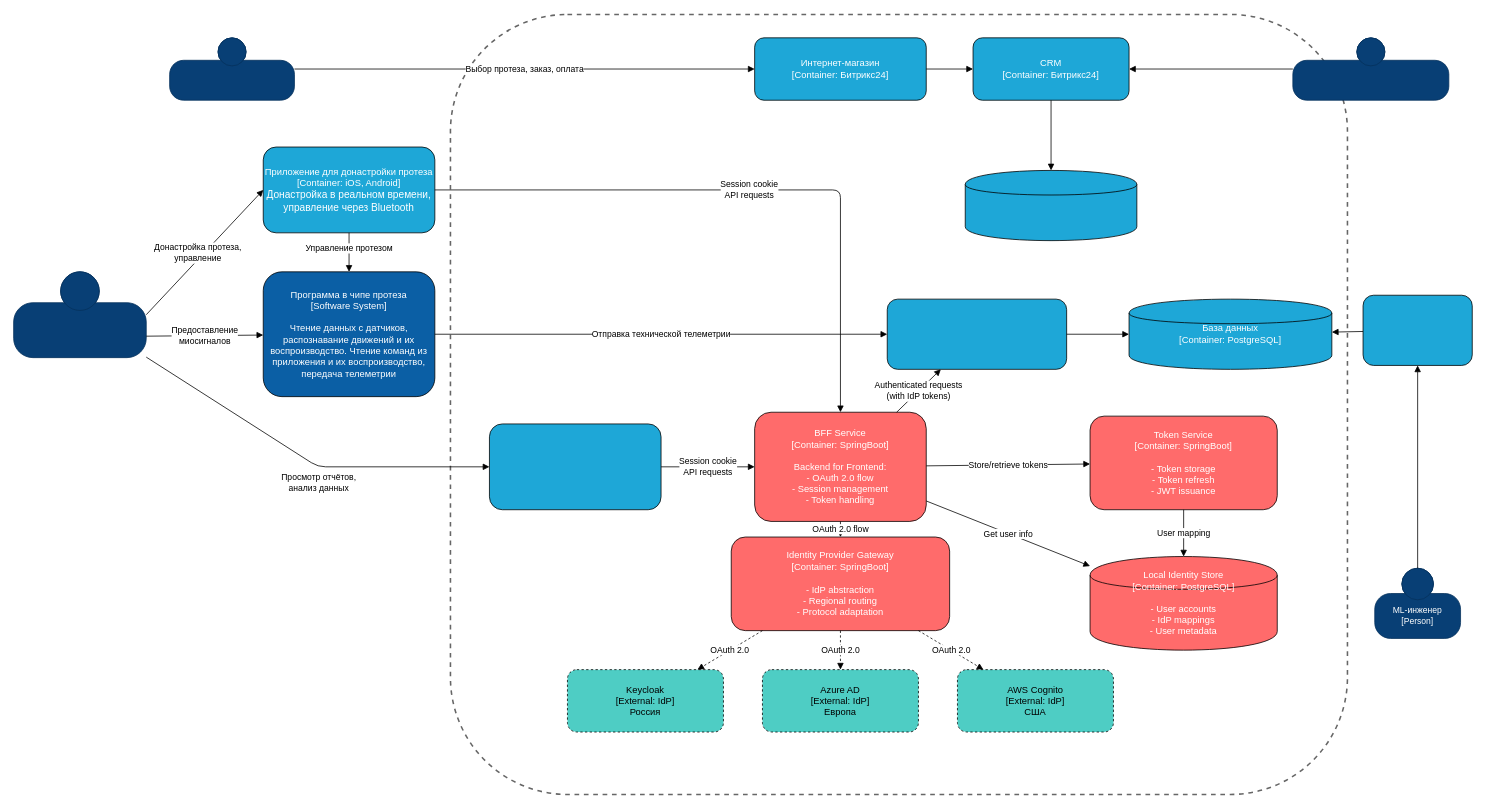
Some shapes in this 1486 by 808 pixel diagram are drawn without their labels. The centre of each missing label's shape, as x and y in pixels:
API [Container: SpringBoot, ElasticSearch, etc.]: the point at 976,333
cli tool [Container: SpringBoot, ElasticSearch, etc.]: the point at 1417,329
CRM DB [Container: Oracle Database 12]: the point at 1050,205
Frontend Web [Container: React] Просмотр отчётов, анализ данных, скачивание: the point at 575,466
Оператор производства [Person]: the point at 1370,68
Пилот протеза [Person] С этого человека считываются данные: the point at 79,314
Покупатель протеза [Person]: the point at 231,68
